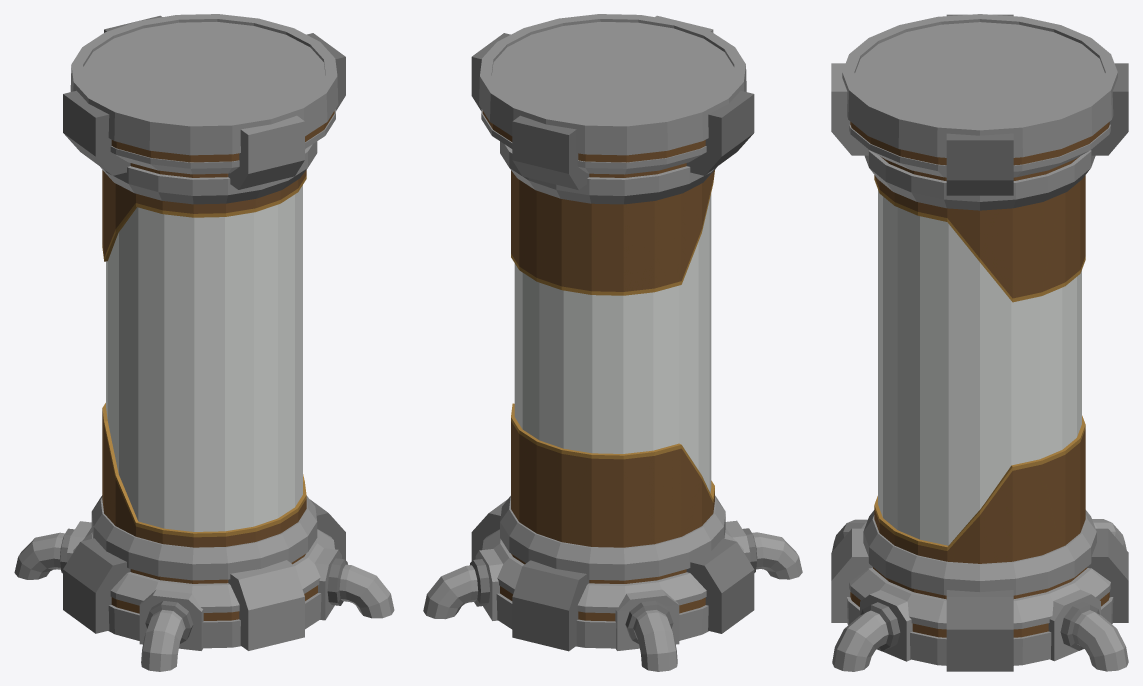
File: props-pod.glb
3 views of the same model, side by side, from view 1: azimuth 30°, elevation 25°; view 2: azimuth 150°, elevation 25°; view 3: azimuth 270°, elevation 25° (orthographic). The views are drawn at different scales.
Visible parts, largest first — view 1: Props_Pod; view 2: Props_Pod; view 3: Props_Pod.
Part boxes in pixels (box(x1,y1,x2,y2)): Props_Pod: box(14, 14, 394, 671); Props_Pod: box(423, 14, 802, 671); Props_Pod: box(831, 14, 1128, 671).
Bounding box in the file's own units: 1.81 × 3.61 × 1.81.
2 materials, 2 textured.
